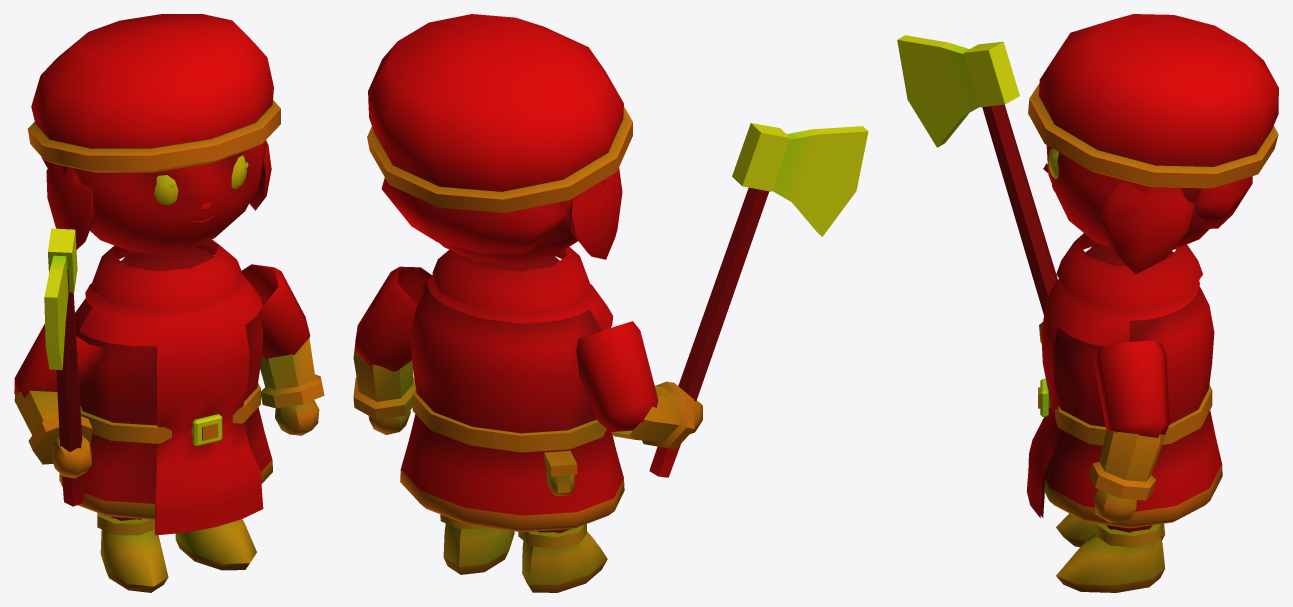
The model's file is Villager_wood.glb.
3 renders of one model, left to right at view 1: azimuth 30°, elevation 25°; view 2: azimuth 150°, elevation 25°; view 3: azimuth 270°, elevation 25°, orthographic. The views are drawn at different scales.
Parts seen in each view (by area): view 1: Villager_wood; view 2: Villager_wood; view 3: Villager_wood.
Part boxes in pixels (x1,y1,x2,y2): Villager_wood: [14, 14, 324, 592]; Villager_wood: [353, 14, 868, 592]; Villager_wood: [897, 14, 1278, 592].
Size of the model in its own units: 0.6605 by 0.8425 by 0.5518.
